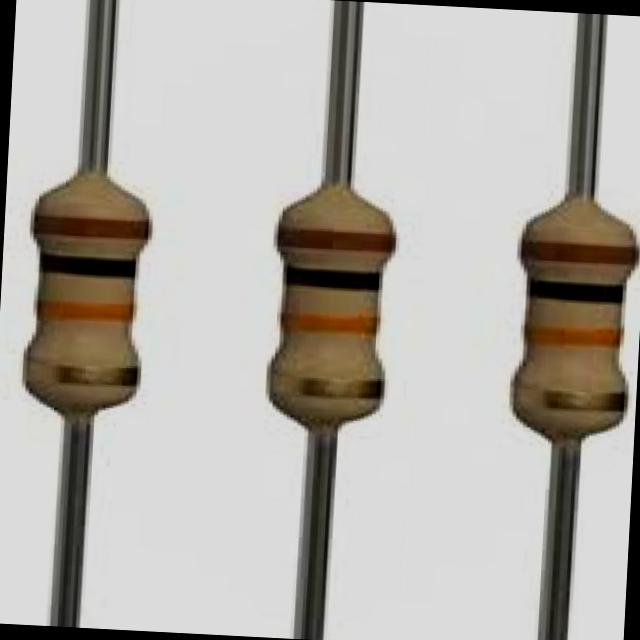Resistor: (269, 186, 395, 433), (24, 174, 151, 419), (513, 199, 638, 444)
black: (530, 280, 622, 306), (40, 252, 133, 277), (284, 268, 378, 290)
brown: (520, 240, 637, 265), (32, 215, 148, 239), (277, 228, 393, 251)
gold: (52, 365, 137, 386), (296, 378, 382, 398), (542, 391, 625, 411)
orange: (281, 313, 376, 334), (37, 301, 133, 321), (526, 327, 621, 345)
